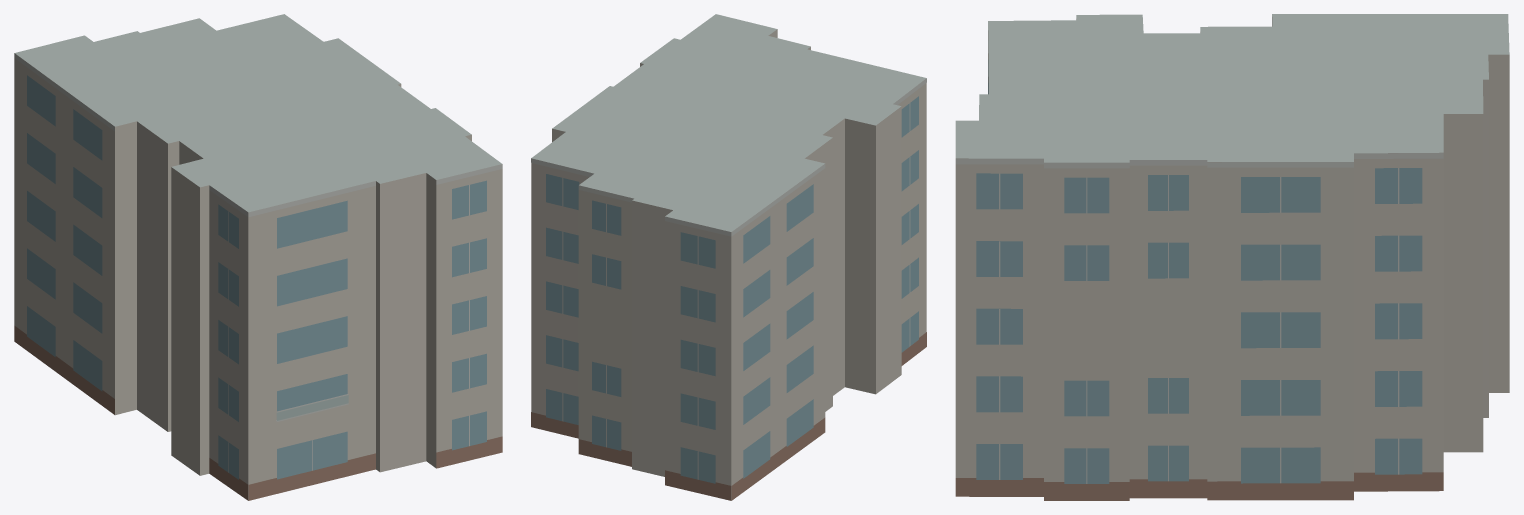
The model's file is survey-upis-32904450.glb.
3 renders of one model, left to right at view 1: azimuth 30°, elevation 25°; view 2: azimuth 150°, elevation 25°; view 3: azimuth 270°, elevation 25°, orthographic. The views are drawn at different scales.
Visible parts, largest first — view 1: survey-upis-32904450.tmp; view 2: survey-upis-32904450.tmp; view 3: survey-upis-32904450.tmp.
Part boxes in pixels (x1,y1,x2,y2): survey-upis-32904450.tmp: (14, 14, 502, 500); survey-upis-32904450.tmp: (531, 14, 926, 500); survey-upis-32904450.tmp: (955, 14, 1509, 500).
Bounding box in the file's own units: 13.58 × 14.4 × 21.39.
